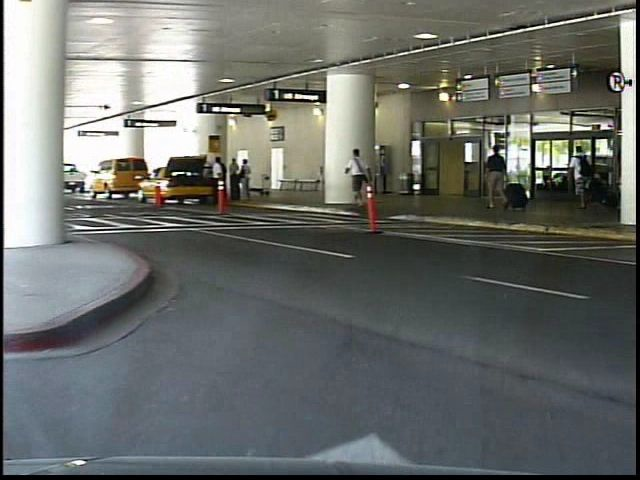person: (565, 138, 602, 220), (352, 145, 381, 212), (485, 144, 513, 212)
